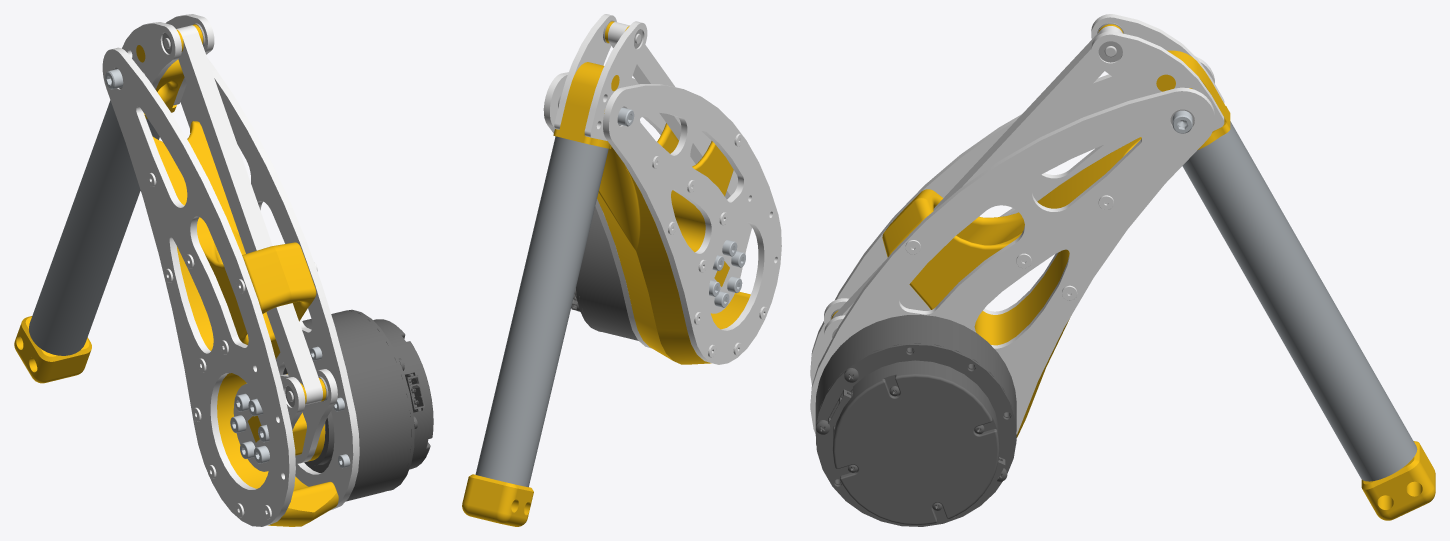
3 renders of one model, left to right at view 1: azimuth 30°, elevation 25°; view 2: azimuth 150°, elevation 25°; view 3: azimuth 270°, elevation 25°, orthographic. The views are drawn at different scales.
Visible parts, largest first — view 1: Thigh Plate (×2), CF Tube, Thigh Fill, 1_1_06_EB673-516_1.stp, Knee Linkage, Knee Crank Plate (×2), 1_1_06_EB673-524_1.stp, Foot socket, Knee Plate (Thru), Knee Fill, Knee Plate (Tapped), 1_1_04_EB672-503_1.stp (+1 smaller); view 2: Thigh Plate (×2), CF Tube, Thigh Fill, 1_1_06_EB673-516_1.stp, Foot socket, Knee Plate (Thru), Knee Fill, Knee Linkage, Knee Plate (Tapped), Knee Crank Plate; view 3: Thigh Plate (×2), CF Tube, 1_1_06_EB673-524_1.stp, Thigh Fill, 1_1_04_EB672-503_1.stp, 1_1_06_EB673-516_1.stp, Knee Linkage, Knee Plate (Tapped), Foot socket, Knee Plate (Thru), Knee Fill.
Part boxes in pixels (x1,y1,x2,y2): Thigh Plate (×2): [102, 47, 359, 526]; CF Tube: [29, 100, 159, 355]; Thigh Fill: [152, 121, 338, 526]; 1_1_06_EB673-516_1.stp: [283, 310, 411, 501]; Knee Linkage: [176, 25, 322, 405]; Knee Crank Plate (×2): [233, 369, 337, 471]; 1_1_06_EB673-524_1.stp: [373, 319, 433, 469]; Foot socket: [14, 316, 91, 383]; Knee Plate (Thru): [122, 22, 181, 89]; Knee Fill: [136, 45, 184, 118]; Knee Plate (Tapped): [165, 14, 214, 105]; 1_1_04_EB672-503_1.stp: [347, 309, 414, 490]; Thigh Plate (×2): [543, 72, 781, 364]; CF Tube: [475, 136, 608, 487]; Thigh Fill: [597, 123, 750, 364]; 1_1_06_EB673-516_1.stp: [578, 206, 638, 340]; Foot socket: [462, 474, 533, 526]; Knee Plate (Thru): [584, 21, 647, 140]; Knee Fill: [553, 62, 619, 148]; Knee Linkage: [608, 22, 737, 199]; Knee Plate (Tapped): [554, 14, 616, 129]; Knee Crank Plate: [709, 222, 751, 313]; Thigh Plate (×2): [810, 56, 1214, 434]; CF Tube: [1182, 121, 1417, 481]; 1_1_06_EB673-524_1.stp: [832, 360, 999, 525]; Thigh Fill: [882, 137, 1141, 437]; 1_1_04_EB672-503_1.stp: [815, 343, 1016, 526]; 1_1_06_EB673-516_1.stp: [815, 314, 1016, 484]; Knee Linkage: [832, 26, 1122, 318]; Knee Plate (Tapped): [1091, 31, 1224, 130]; Foot socket: [1361, 441, 1435, 520]; Knee Plate (Thru): [1091, 14, 1224, 102]; Knee Fill: [1156, 50, 1230, 149].
Bounding box in the file's own units: 0.0798 × 0.2094 × 0.2437.
